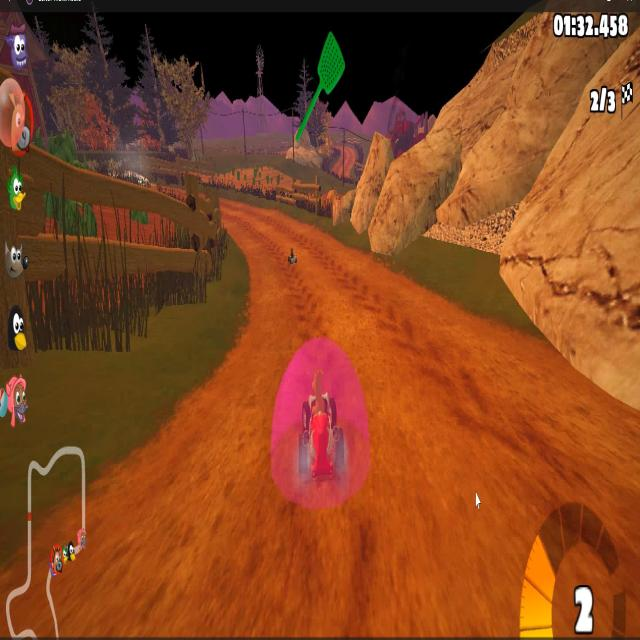enemy_kart: (286, 246, 296, 261)
player_kart: (273, 346, 372, 512)
track: (253, 266, 402, 338), (235, 212, 303, 240)
